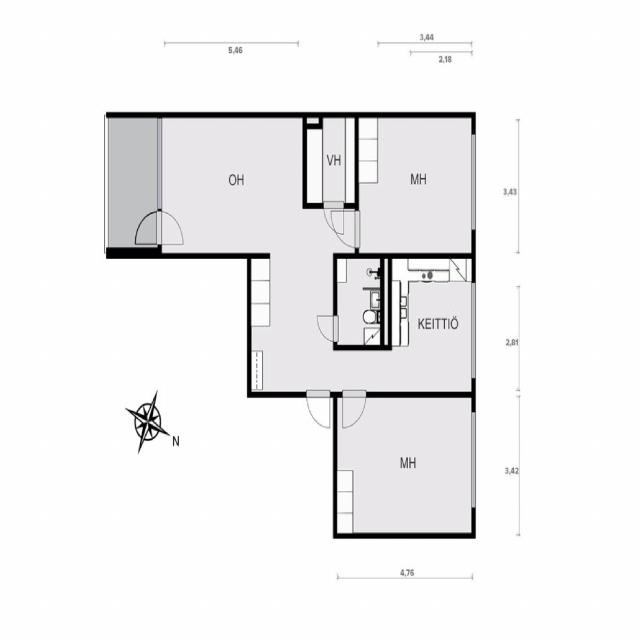door: (329, 212, 359, 248), (342, 392, 366, 431), (306, 392, 330, 430), (134, 211, 161, 244), (157, 211, 184, 244), (324, 203, 343, 237), (316, 316, 338, 342)
